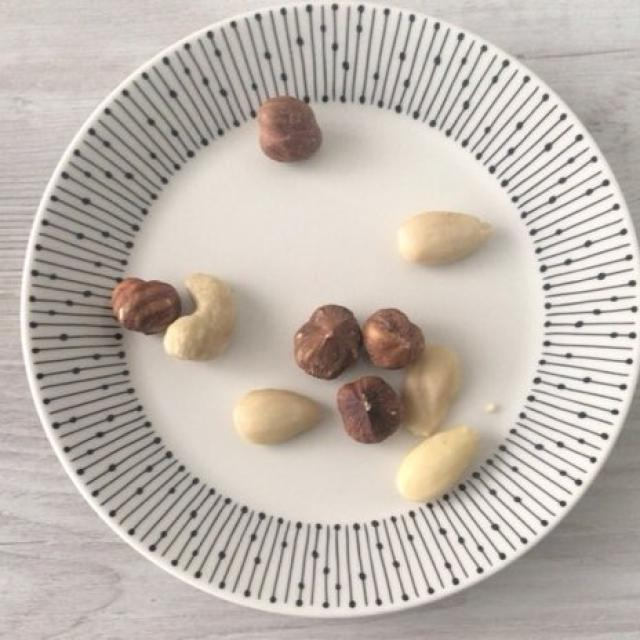mixed-nuts: (119, 94, 490, 502)
